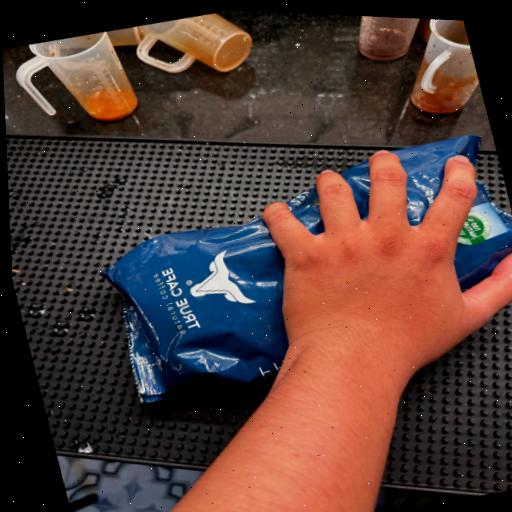cafe_hat: (101, 217, 288, 401), (394, 135, 480, 224), (454, 181, 512, 288), (287, 186, 324, 234), (341, 161, 370, 218)
